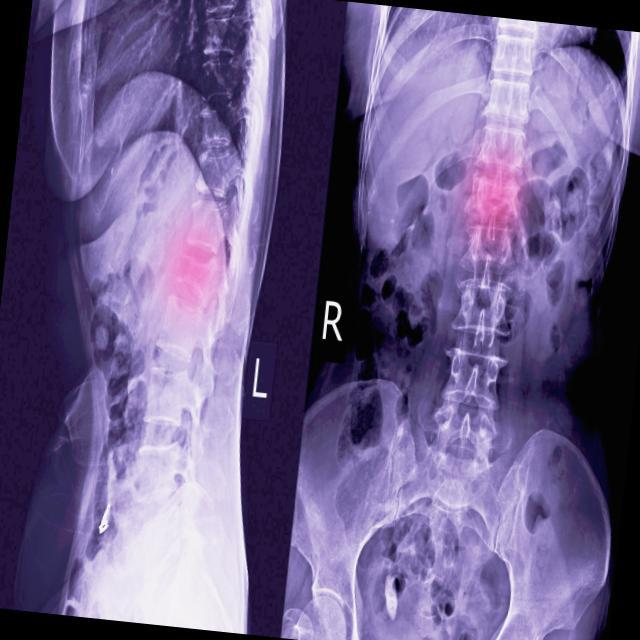Compression-Crush Fracutre: (171, 239, 230, 304)
